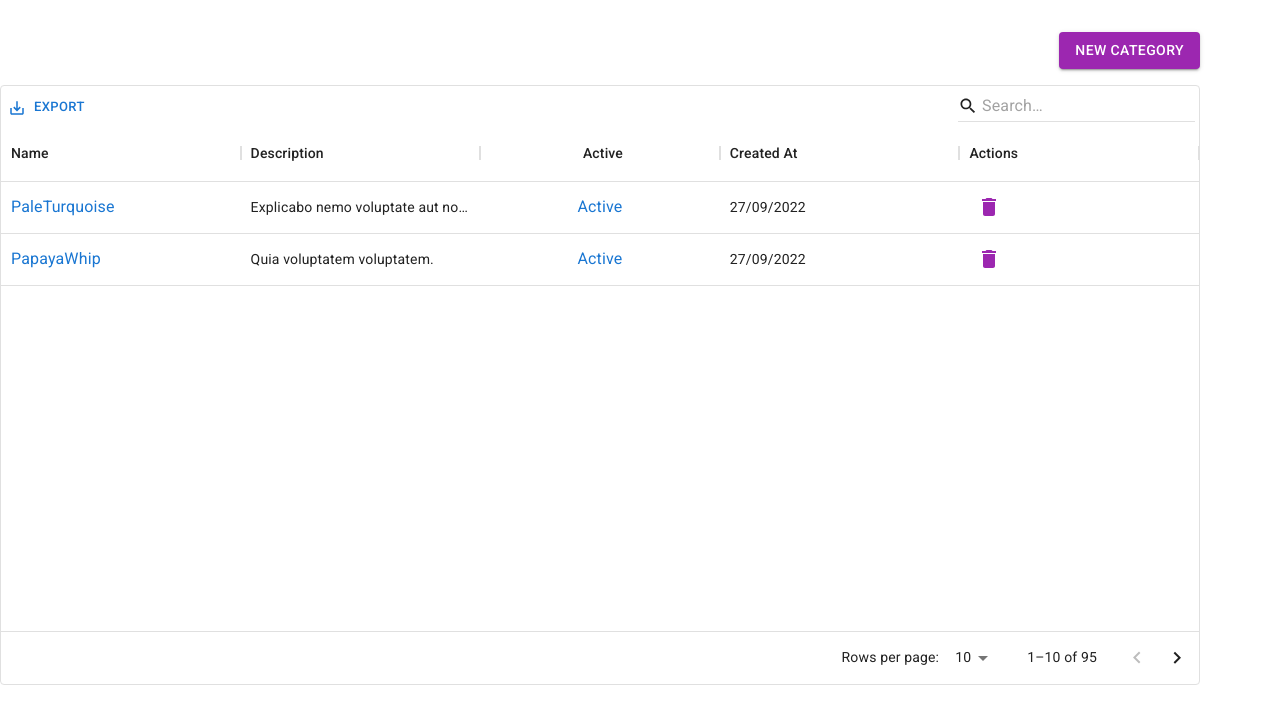
Test: ListCategory › should handle Delete Category error
The width and height of the screenshot is (1280, 720).
Expected: the text "PaleTurquoise" is shown, [11,195,115,219]
Click the button with test id "delete-button" in the row of "PaleTurquoise": x=989, y=207 [969,187,1009,227]
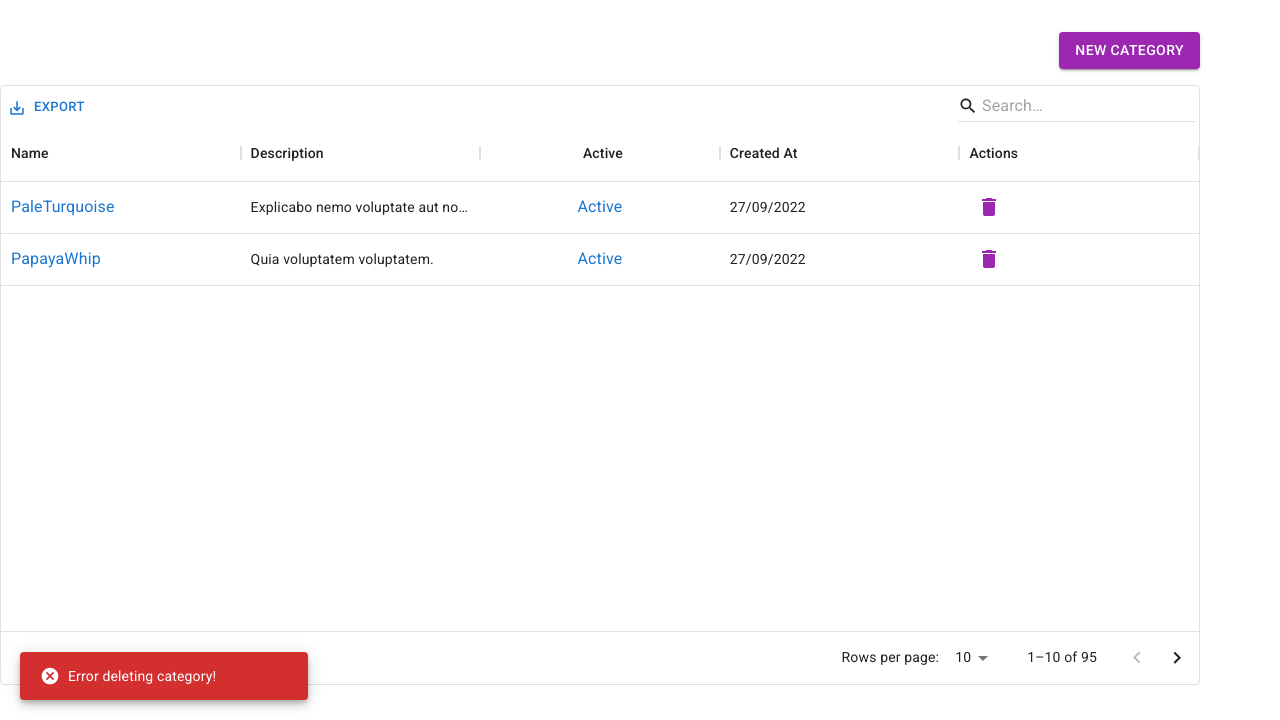
Expected: the text "Error deleting category!" is shown, [40,666,216,686]
